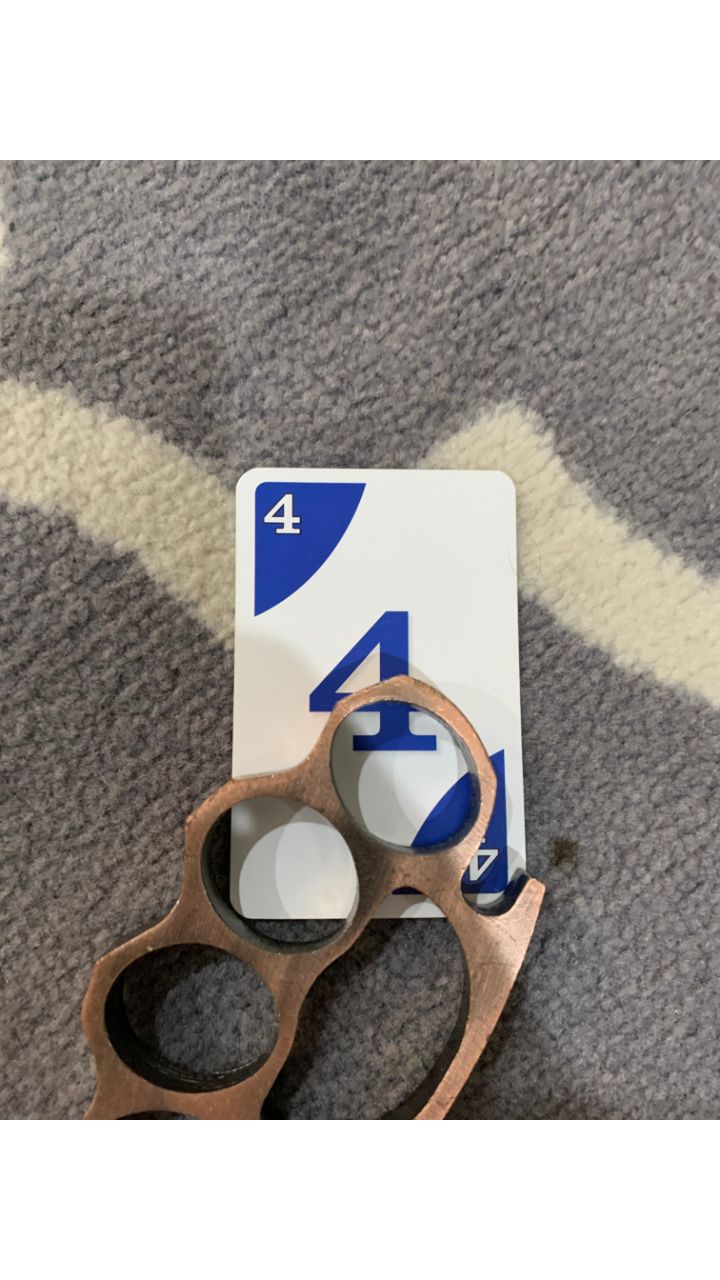four: (224, 460, 538, 930)
